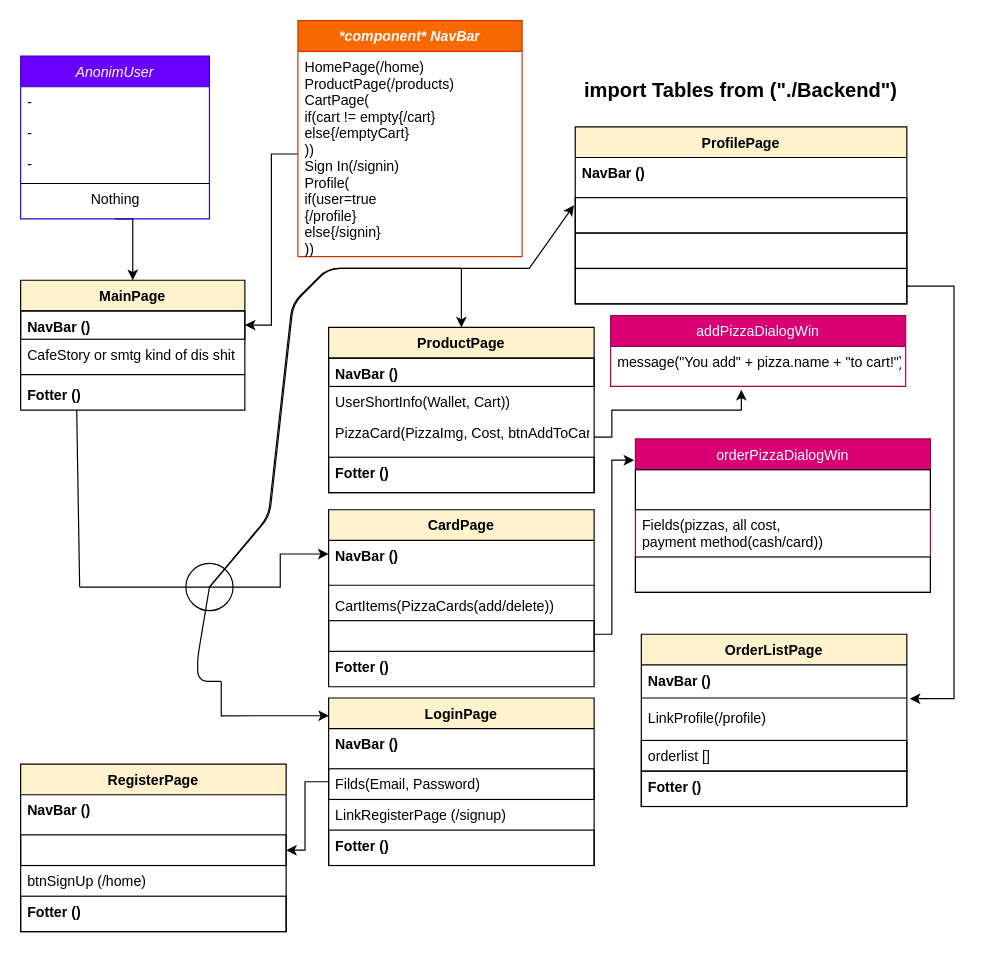
This 984x956 diagram has some shape labels left out. Here are the shapes that lost their labels. From the top down, the centre of each, then its label:
At (x=740, y=214): "Fields(Img, Email, phoneNumber, Address)".
At (x=740, y=250): "btnEdit(all fields has turned from labels to inserts)".
At (x=740, y=285): "LinkOrderList(/profile/orderlist#)".
At (x=782, y=489): "styles".
At (x=782, y=574): "btnOrder => create table Order#N".
At (x=460, y=635): "btnOrder".
At (x=152, y=850): "Fields(Email, Password, PhoneNumber )".
